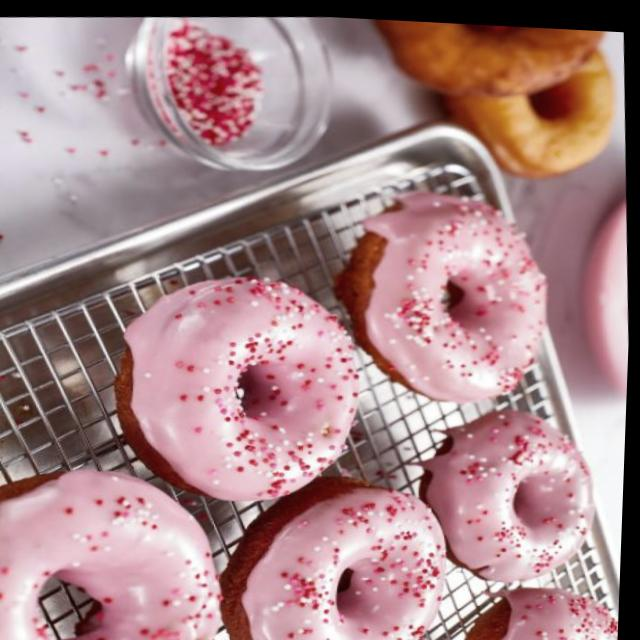donut: (106, 259, 371, 510), (335, 173, 559, 409), (0, 451, 234, 640), (220, 458, 459, 640), (416, 395, 606, 584), (456, 571, 624, 640)
